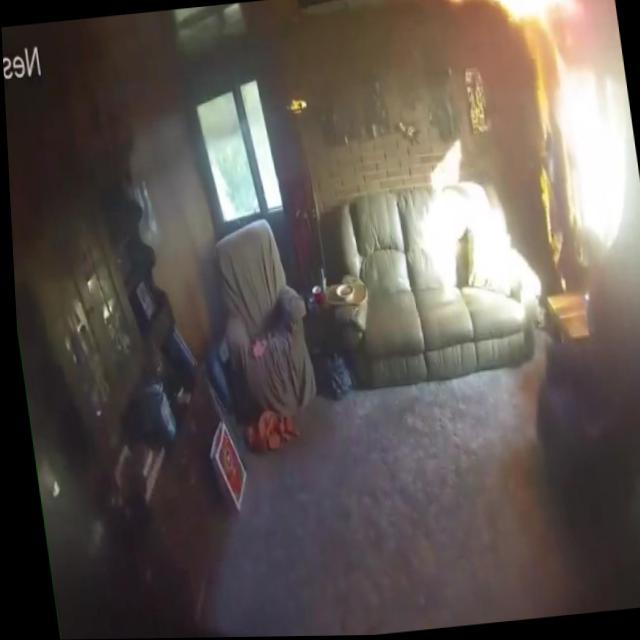fire: (514, 41, 575, 290), (482, 0, 594, 43)
